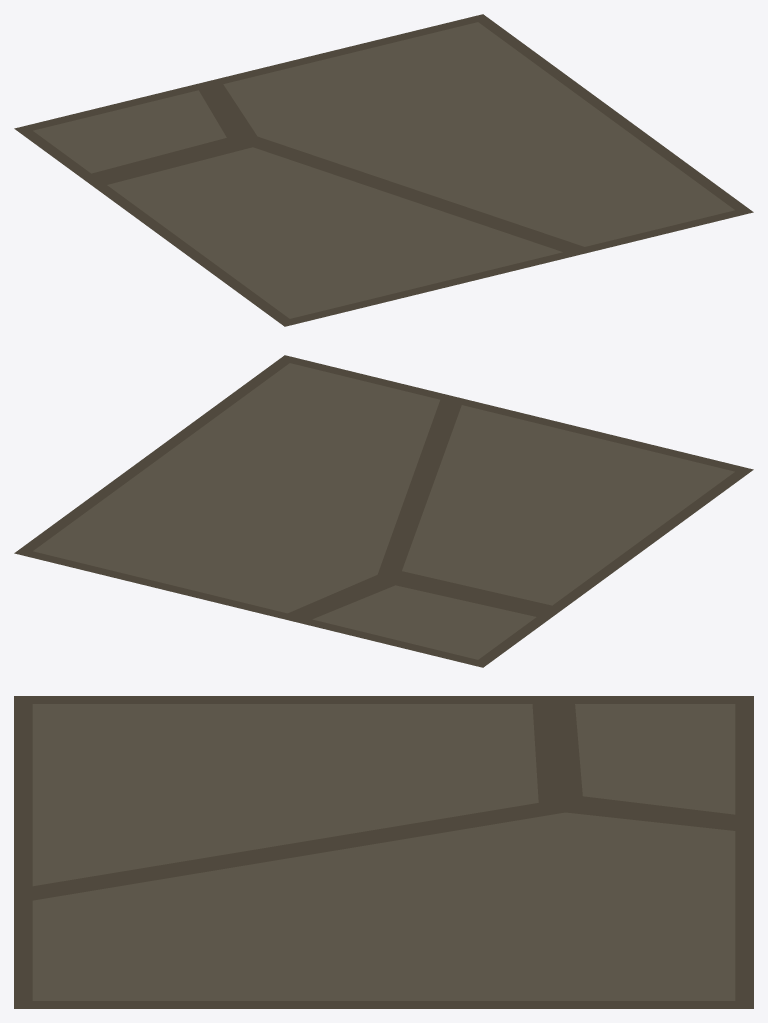
File: SD_Env_Undead_Floor_04.fbx
3 renders of one model, top to bottom at view 1: azimuth 30°, elevation 25°; view 2: azimuth 150°, elevation 25°; view 3: azimuth 270°, elevation 25°, orthographic. The views are drawn at different scales.
Parts seen in each view (by area): view 1: SD_Env_Undead_Floor_04; view 2: SD_Env_Undead_Floor_04; view 3: SD_Env_Undead_Floor_04.
Part boxes in pixels (x1,y1,x2,y2): SD_Env_Undead_Floor_04: [14, 14, 753, 326]; SD_Env_Undead_Floor_04: [14, 355, 753, 667]; SD_Env_Undead_Floor_04: [14, 696, 753, 1008].
Bounding box in the file's own units: 5 × 0 × 5.
